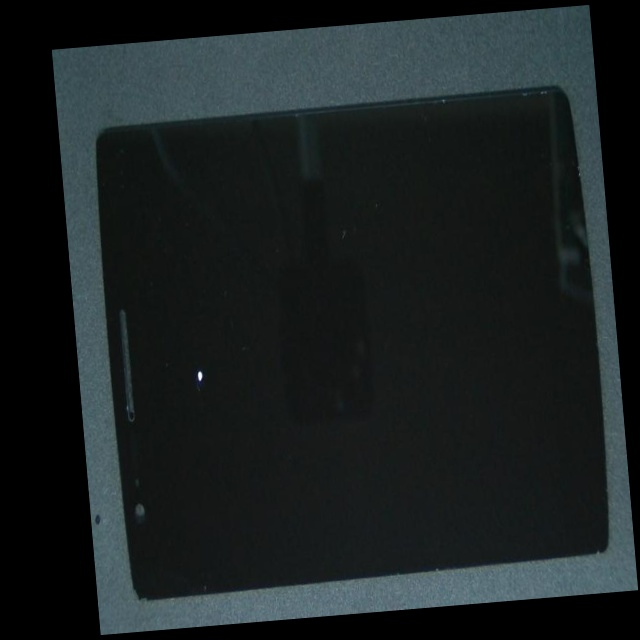stain: (122, 172, 258, 508)
